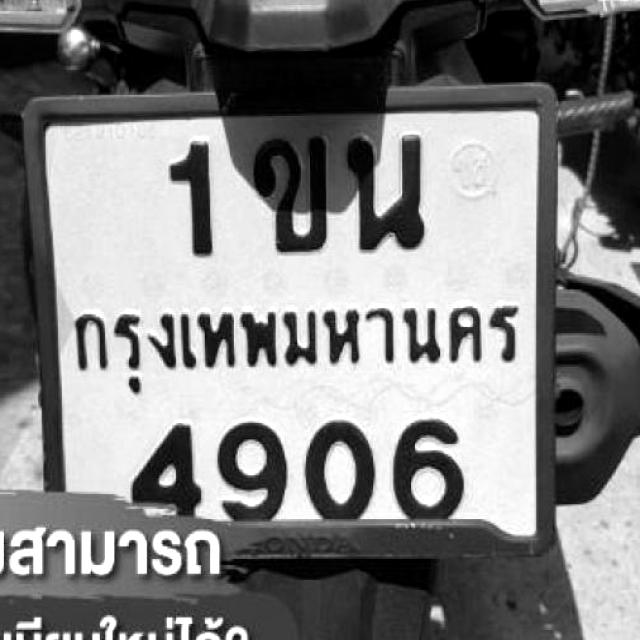letters: (346, 131, 440, 255), (247, 139, 336, 256), (115, 421, 213, 514), (222, 411, 295, 526), (390, 417, 467, 524), (168, 142, 232, 266), (305, 424, 384, 521)
license-plate: (34, 98, 554, 557)
province: (67, 298, 522, 375)
